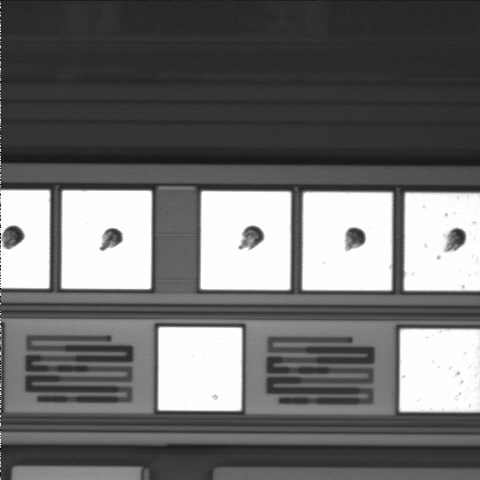pad: (201, 191, 291, 290), (62, 191, 152, 289), (302, 192, 392, 290), (158, 327, 242, 411)
